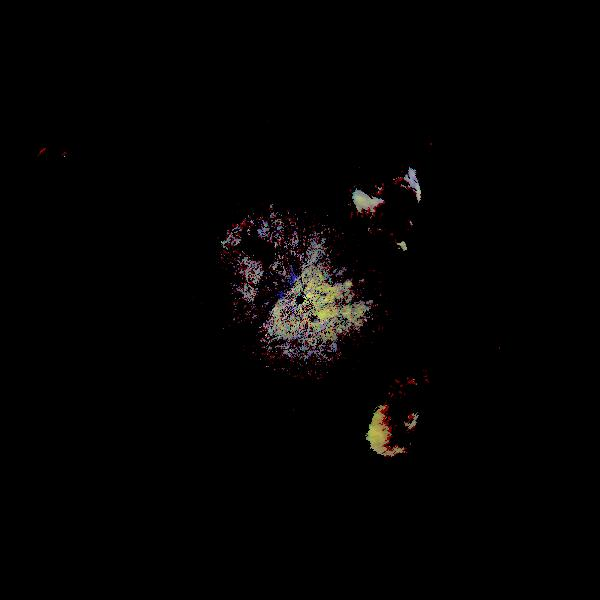roost: (357, 363, 489, 495)
